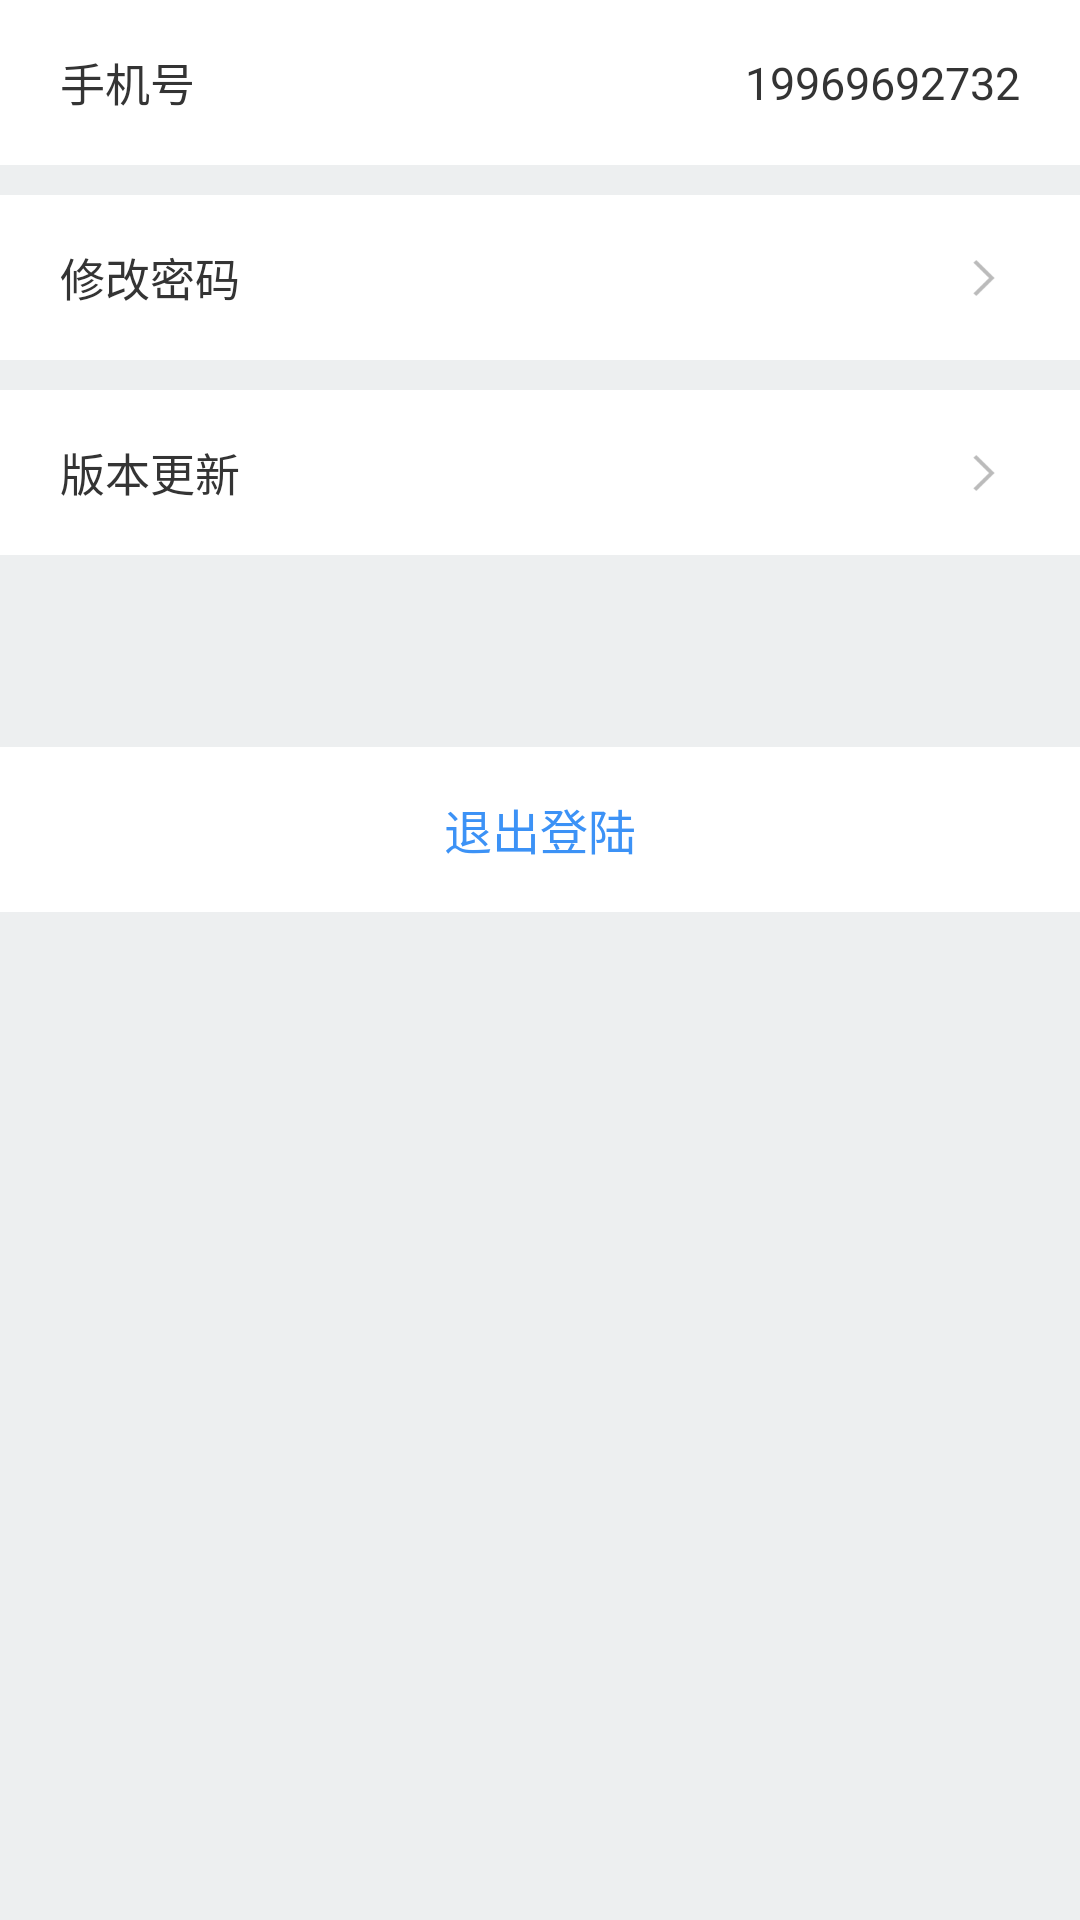

Icons on this 1080*1920 Android screen, each with the point to tap as point (x, y):
next: point (984, 278), point (984, 473)
